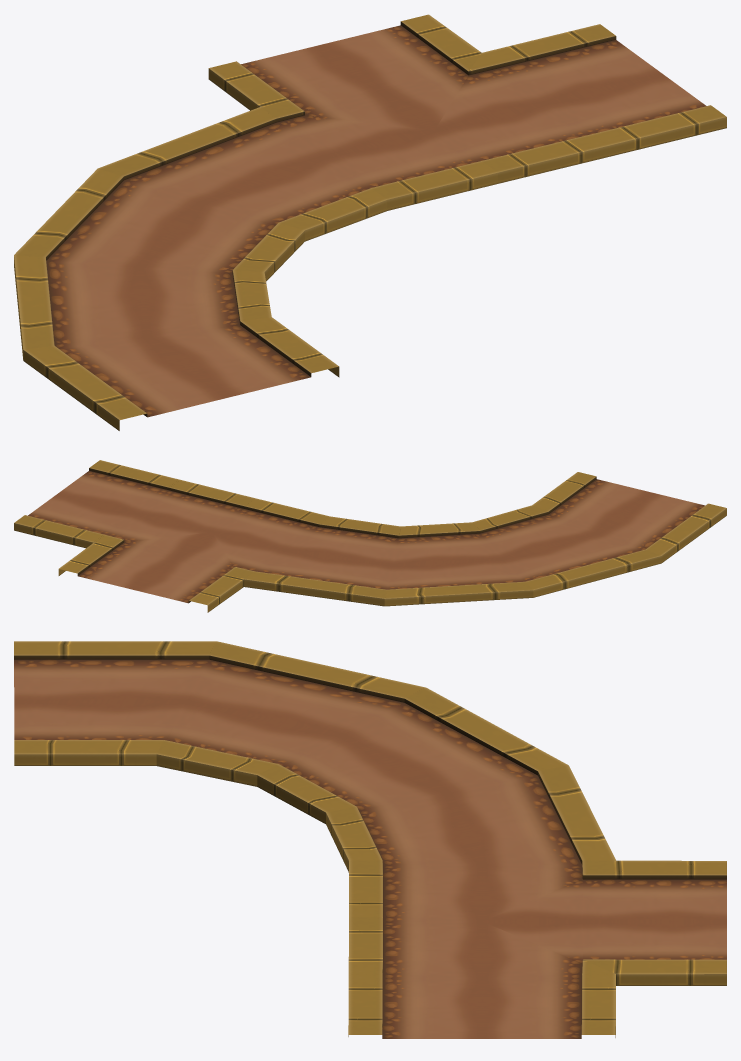
File: RoadPiece_10.FBX
The picture shows the model from 3 angles, top to bottom: view 1: azimuth 30°, elevation 25°; view 2: azimuth 150°, elevation 25°; view 3: azimuth 270°, elevation 25°; orthographic projection. The views are drawn at different scales.
Parts seen in each view (by area): view 1: RoadPiece_10; view 2: RoadPiece_10; view 3: RoadPiece_10.
Part boxes in pixels (x1=…): RoadPiece_10: x1=14, y1=14, x2=726, y2=430; RoadPiece_10: x1=14, y1=460, x2=726, y2=612; RoadPiece_10: x1=14, y1=641, x2=726, y2=1038.
Bounding box in the file's own units: 5.68 × 0.0808 × 4.35.
